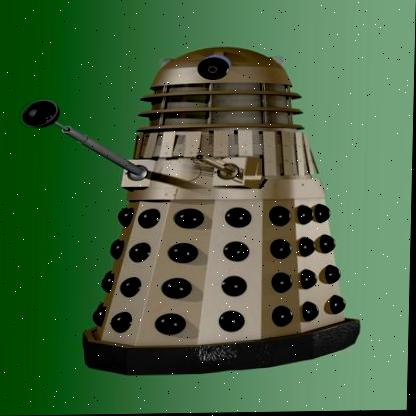dalek: (9, 11, 381, 393)
